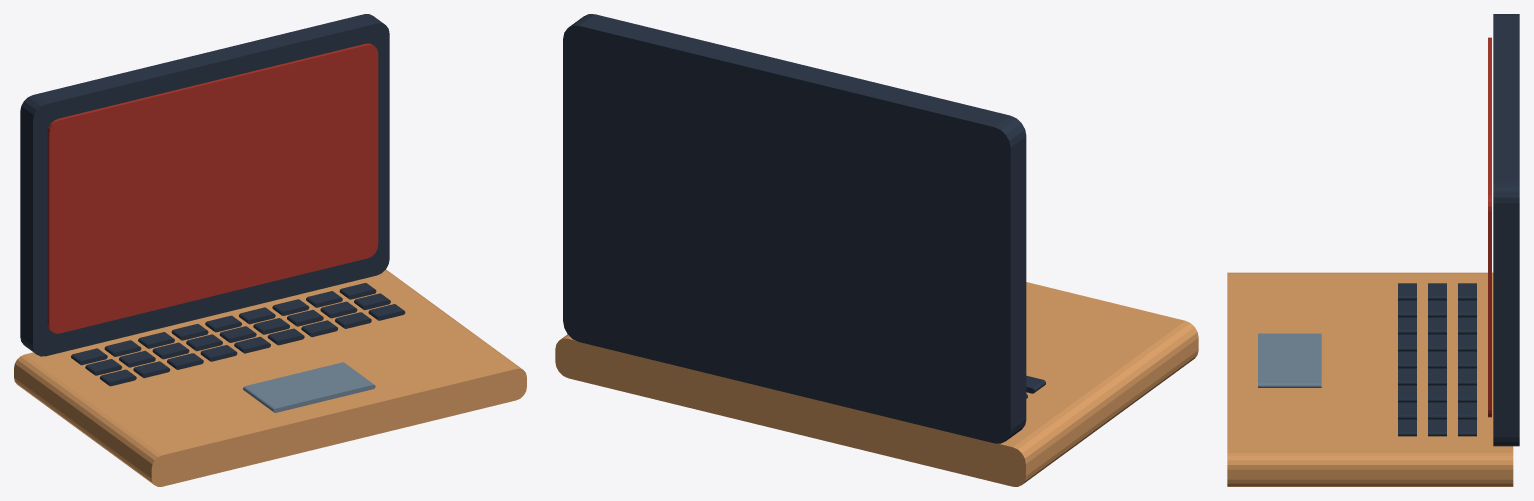
File: laptop.glb
3 renders of one model, left to right at view 1: azimuth 30°, elevation 25°; view 2: azimuth 150°, elevation 25°; view 3: azimuth 270°, elevation 25°, orthographic. The views are drawn at different scales.
Visible parts, largest first — view 1: display glass, base, display bezel, trackpad; view 2: display bezel, base; view 3: base, display bezel, trackpad, display glass, key 0-0, key 0-1, key 0-2, key 0-3, key 0-4, key 0-5, key 0-6, key 0-7 (+19 smaller).
Part boxes in pixels (left/top/right/bottom): display glass: left=47, top=43, right=378, bottom=333; base: left=14, top=269, right=526, bottom=486; display bezel: left=20, top=14, right=389, bottom=356; trackpad: left=243, top=362, right=375, bottom=412; display bezel: left=563, top=14, right=1026, bottom=443; base: left=555, top=282, right=1198, bottom=486; base: left=1227, top=272, right=1513, bottom=486; display bezel: left=1493, top=14, right=1519, bottom=446; trackpad: left=1258, top=333, right=1321, bottom=387; display glass: left=1488, top=37, right=1491, bottom=417; key 0-0: left=1458, top=283, right=1476, bottom=300; key 0-1: left=1458, top=300, right=1476, bottom=317; key 0-2: left=1458, top=317, right=1476, bottom=334; key 0-3: left=1458, top=334, right=1476, bottom=351; key 0-4: left=1458, top=351, right=1476, bottom=368; key 0-5: left=1458, top=368, right=1476, bottom=385; key 0-6: left=1458, top=385, right=1476, bottom=402; key 0-7: left=1458, top=402, right=1476, bottom=419.
Size of the model in its own units: 1.62 by 1.18 by 1.05.
